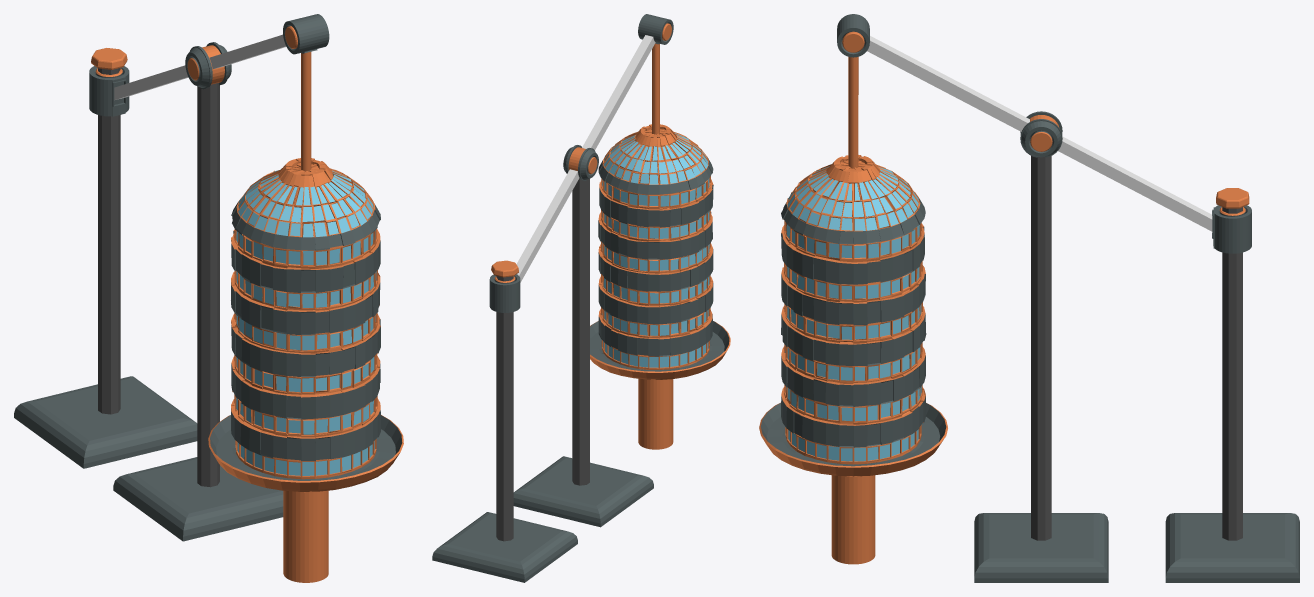
Rendered from Birdhouse_02.fbx.
3 renders of one model, left to right at view 1: azimuth 30°, elevation 25°; view 2: azimuth 150°, elevation 25°; view 3: azimuth 270°, elevation 25°, orthographic. The views are drawn at different scales.
Visible parts, largest first — view 1: BirdHouse, Balancing-Foundation, Birdhouse-Foundation, BirdHouse_Hydraulic-Base, Connection-Pipe, Joint-Foundation.001, Joint-Birdhouse, Joint-Foundation; view 2: BirdHouse, Birdhouse-Foundation, Balancing-Foundation, Connection-Pipe, BirdHouse_Hydraulic-Base, Joint-Foundation.001, Joint-Foundation, Joint-Birdhouse; view 3: BirdHouse, Birdhouse-Foundation, Balancing-Foundation, Connection-Pipe, BirdHouse_Hydraulic-Base, Joint-Foundation.001, Joint-Foundation, Joint-Birdhouse.
Boxes of the visible parts, <box> form: BirdHouse: <box>208,52,403,491</box>; Balancing-Foundation: <box>14,48,197,468</box>; Birdhouse-Foundation: <box>113,83,283,541</box>; BirdHouse_Hydraulic-Base: <box>283,490,328,582</box>; Connection-Pipe: <box>114,34,286,100</box>; Joint-Foundation.001: <box>89,66,129,116</box>; Joint-Birdhouse: <box>283,14,329,54</box>; Joint-Foundation: <box>185,42,231,89</box>; BirdHouse: <box>590,43,730,379</box>; Birdhouse-Foundation: <box>513,178,653,527</box>; Balancing-Foundation: <box>432,260,577,582</box>; Connection-Pipe: <box>516,35,655,282</box>; BirdHouse_Hydraulic-Base: <box>638,378,673,449</box>; Joint-Foundation.001: <box>489,274,520,312</box>; Joint-Foundation: <box>563,145,598,180</box>; Joint-Birdhouse: <box>638,14,673,44</box>; BirdHouse: <box>759,57,947,476</box>; Birdhouse-Foundation: <box>974,156,1108,582</box>; Balancing-Foundation: <box>1165,188,1299,582</box>; Connection-Pipe: <box>867,36,1212,231</box>; BirdHouse_Hydraulic-Base: <box>831,475,875,564</box>; Joint-Foundation.001: <box>1212,205,1251,253</box>; Joint-Foundation: <box>1020,111,1062,157</box>; Joint-Birdhouse: <box>837,14,869,57</box>.
Bounding box in the file's own units: 563 × 1756 × 1611.
